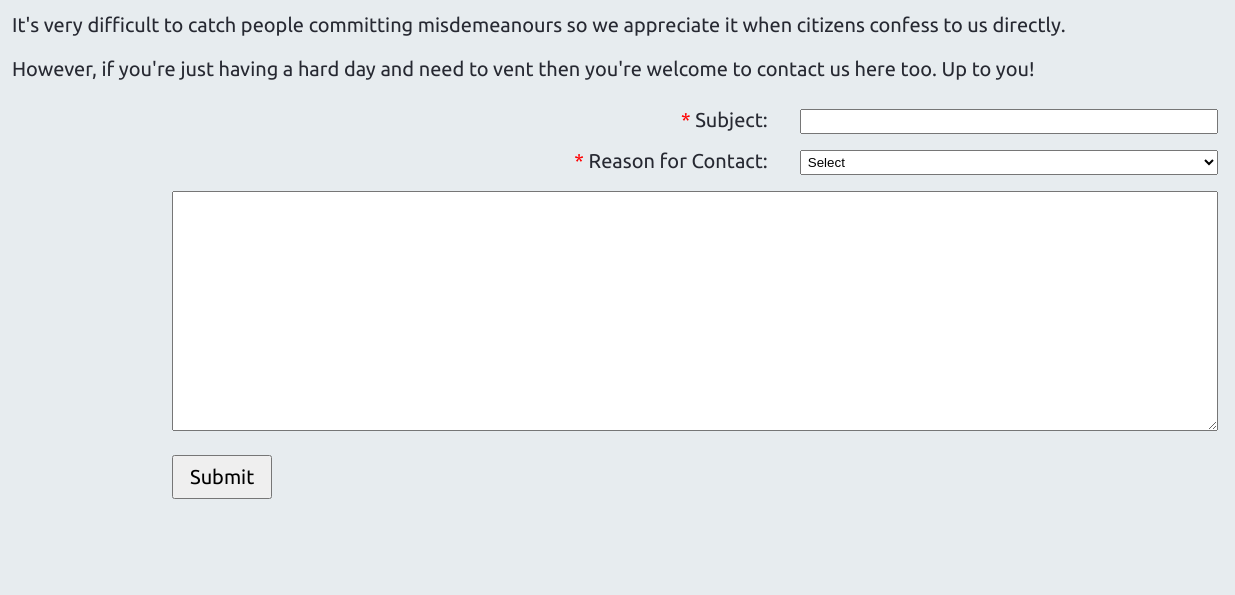
Test: <Confession> › Given nothing is entered ,         When submit button is pressed,         then validation errors are shown
Click the button labelled "Submit" at (222, 477), box top-left (172, 455), bottom-right (272, 499)
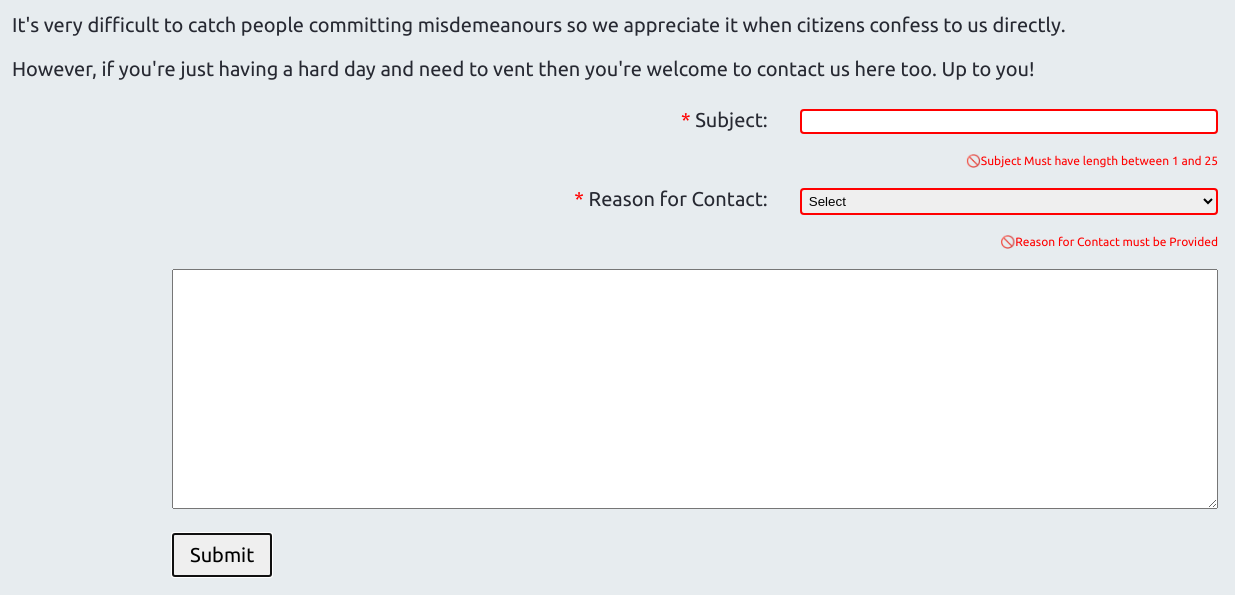
Result: the text "🚫Reason for Contact must be Provided" is shown at top-left (1000, 235), bottom-right (1218, 248)
Result: the text "🚫Subject Must have length between 1 and 25" is shown at top-left (966, 154), bottom-right (1218, 167)
